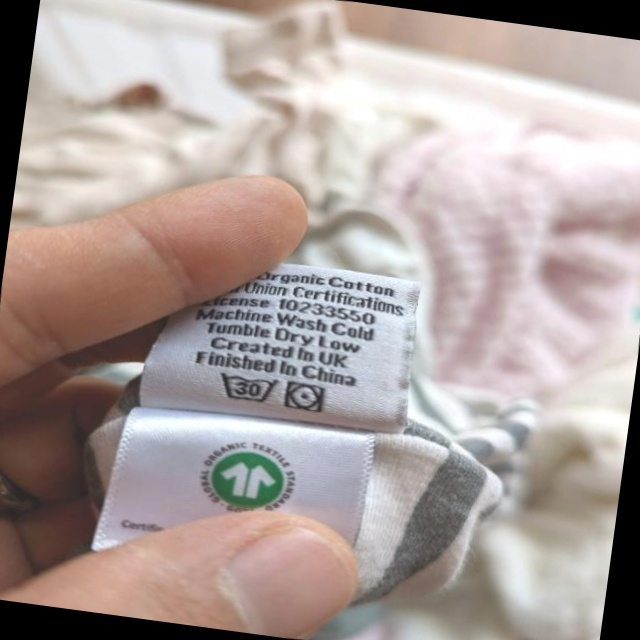30C: (212, 365, 282, 410)
tumble_dry_low: (280, 376, 330, 419)
